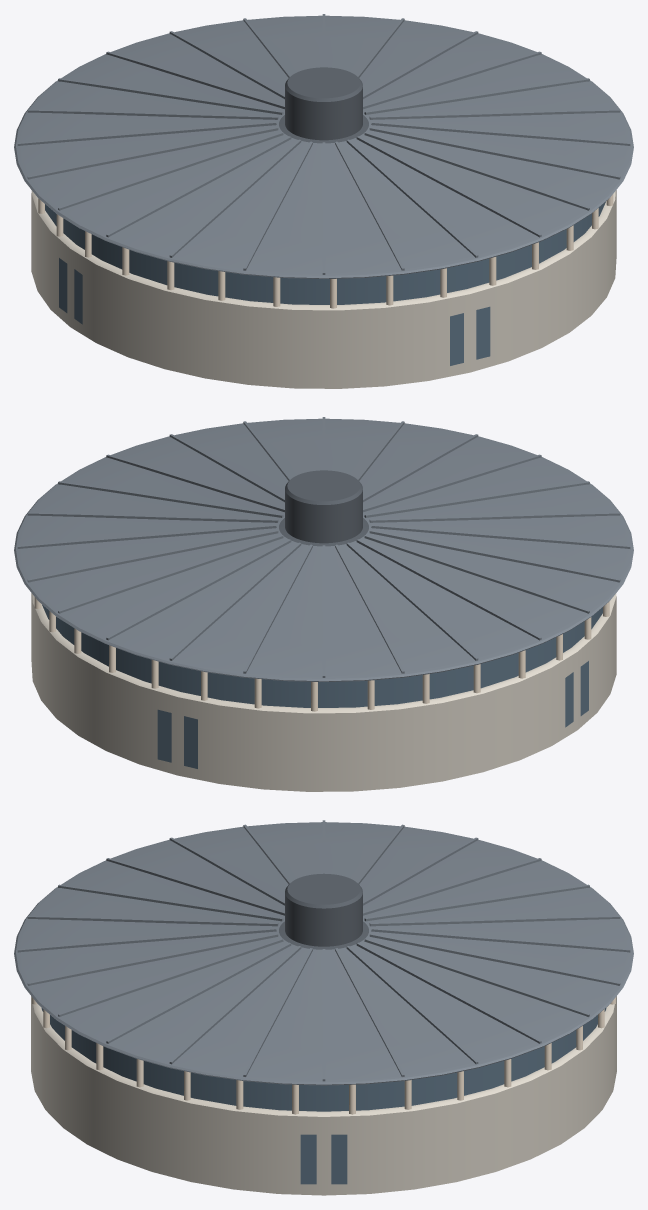
The model's file is seoul-arts-center.glb.
3 renders of one model, top to bottom at view 1: azimuth 30°, elevation 25°; view 2: azimuth 150°, elevation 25°; view 3: azimuth 270°, elevation 25°, orthographic.
Visible parts, largest first — view 1: Seoul Arts Center Opera House; view 2: Seoul Arts Center Opera House; view 3: Seoul Arts Center Opera House.
Boxes of the visible parts, x1,y1,x2,y2 form: Seoul Arts Center Opera House: (14, 14, 633, 388); Seoul Arts Center Opera House: (14, 417, 633, 791); Seoul Arts Center Opera House: (14, 820, 633, 1195).
Bounding box in the file's own units: 102 × 33 × 102.
